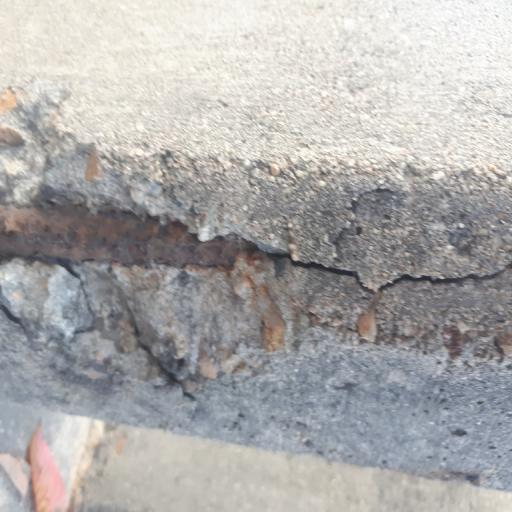exposed_rebar: (0, 204, 257, 268)
